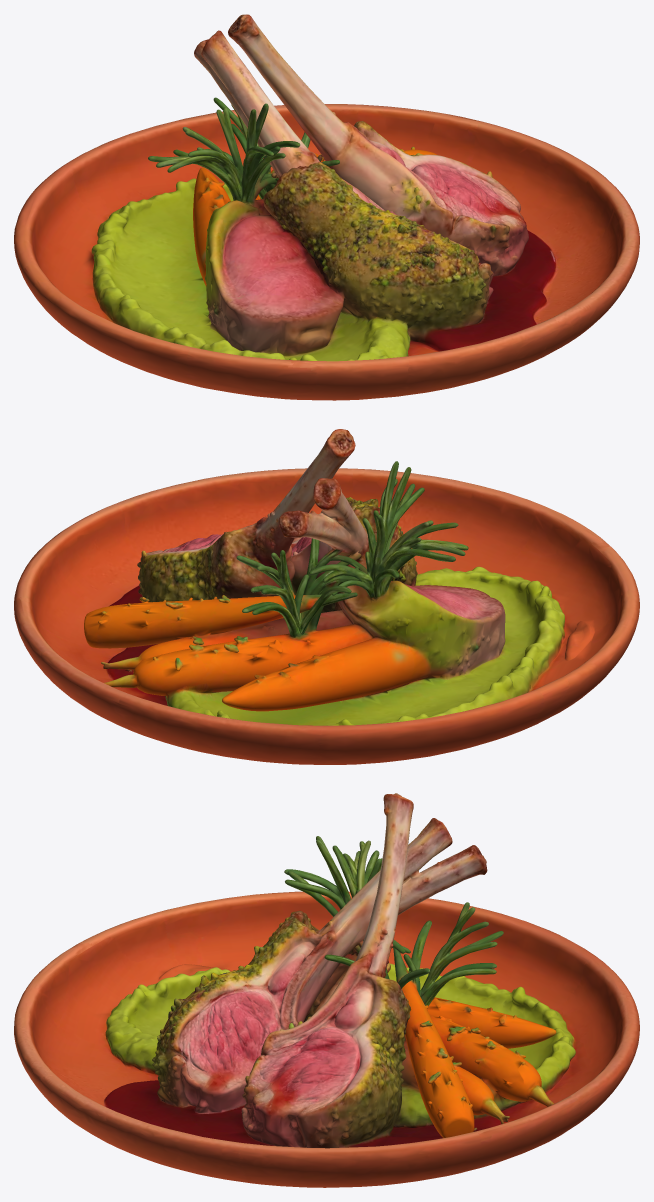
Rendered from herb-crusted-rack-of-lamb.glb.
3 renders of one model, top to bottom at view 1: azimuth 30°, elevation 25°; view 2: azimuth 150°, elevation 25°; view 3: azimuth 270°, elevation 25°, orthographic.
Parts seen in each view (by area): view 1: tripo_node_41d5e505-769b-4def-a860-b21f2870c034; view 2: tripo_node_41d5e505-769b-4def-a860-b21f2870c034; view 3: tripo_node_41d5e505-769b-4def-a860-b21f2870c034.
Boxes of the visible parts, x1=… form: tripo_node_41d5e505-769b-4def-a860-b21f2870c034: x1=14, y1=14, x2=639, y2=400; tripo_node_41d5e505-769b-4def-a860-b21f2870c034: x1=14, y1=429, x2=639, y2=764; tripo_node_41d5e505-769b-4def-a860-b21f2870c034: x1=14, y1=793, x2=639, y2=1187.
Bounding box in the file's own units: 0.9802 × 0.4772 × 0.9798.
Materials: 1 (1 with a texture image).
